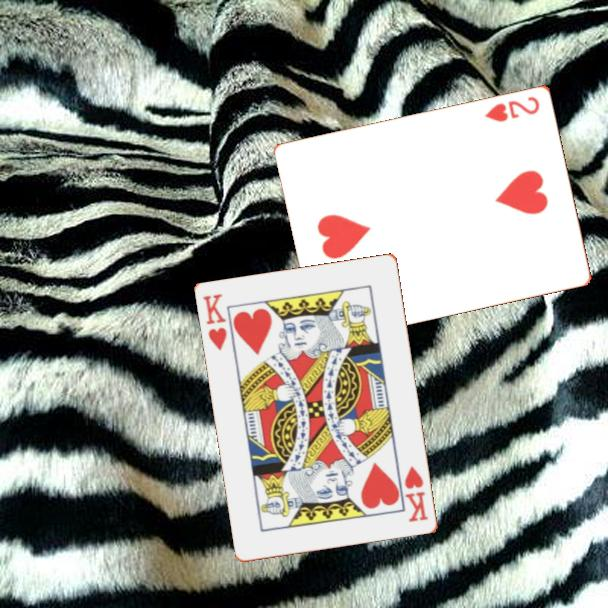h02: (481, 93, 543, 125)
h13: (401, 462, 431, 525), (200, 290, 230, 353)
